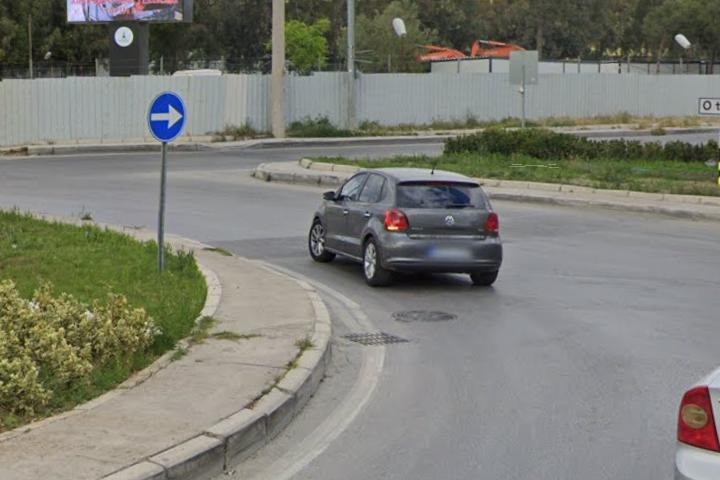turnright: (150, 93, 185, 138)
